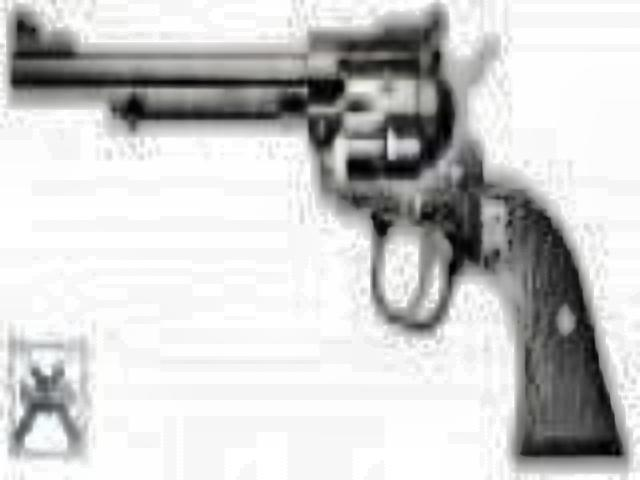pistol: (8, 12, 616, 448)
